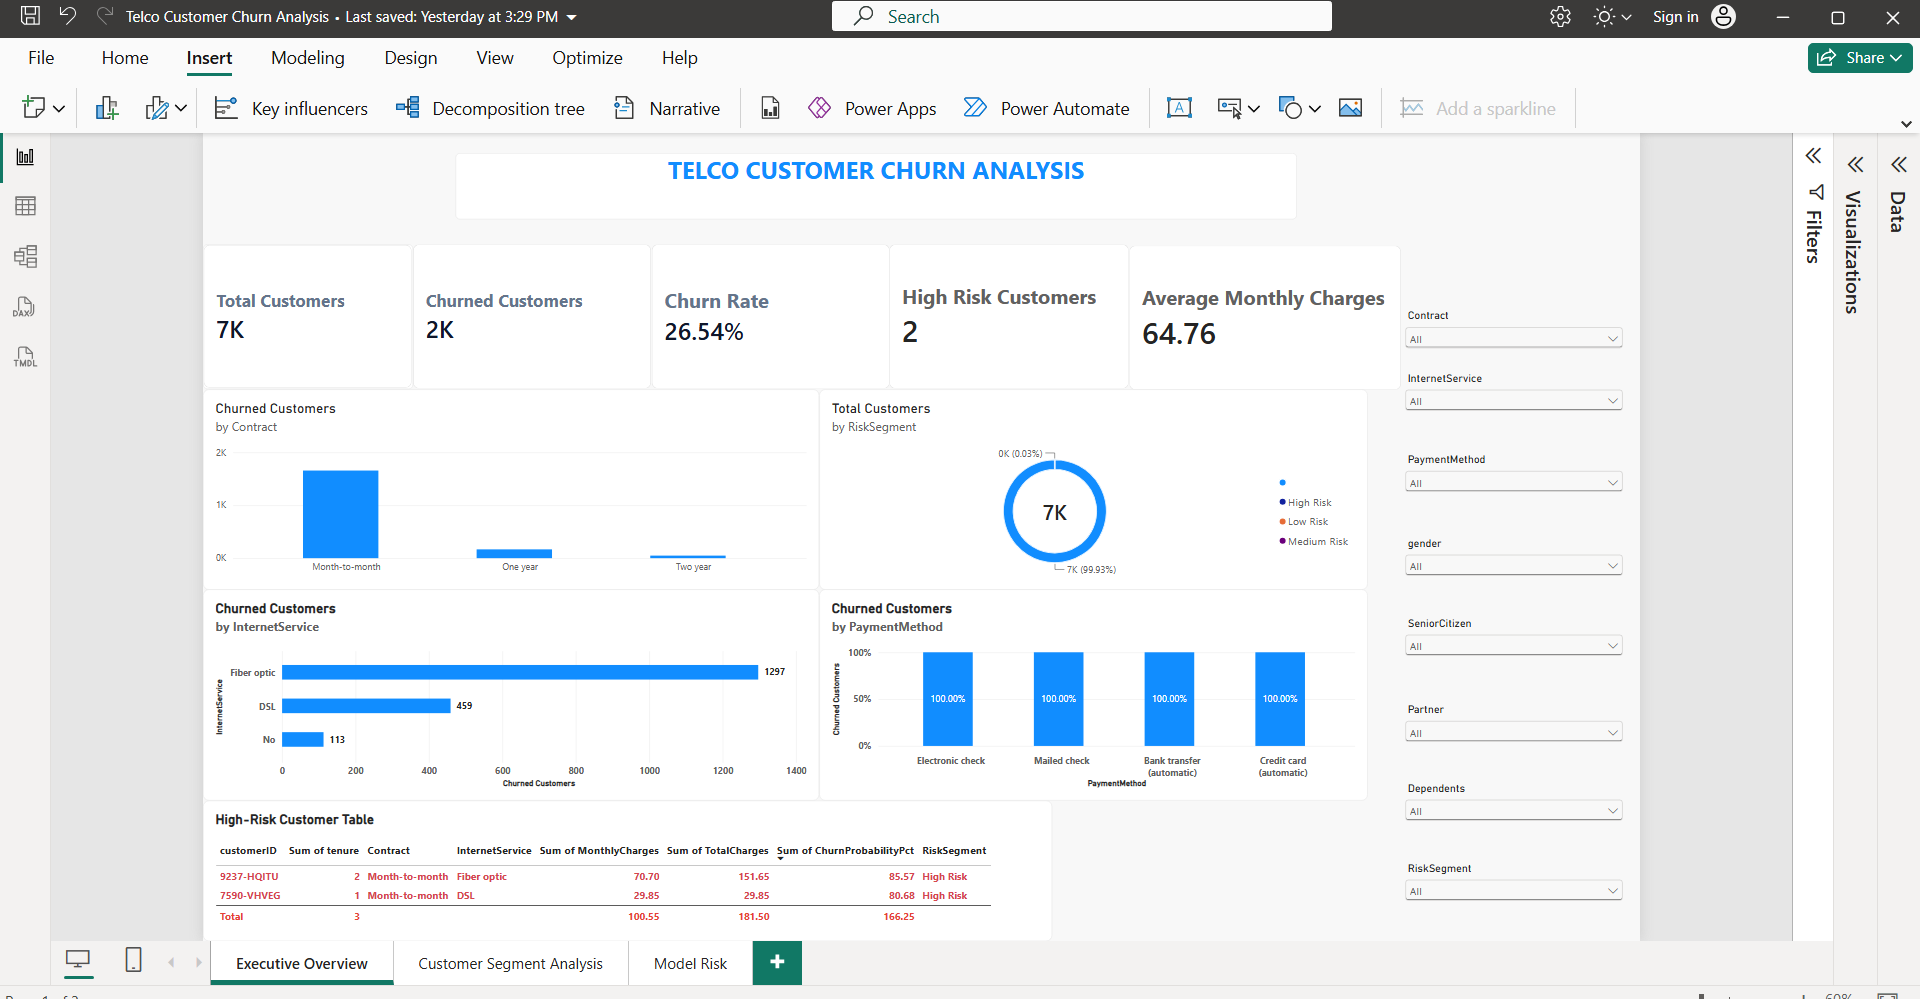

The page's visual inventory and layout, read from the dashboard file:
{"tool":"powerbi","page":{"name":"Executive Overview","canvas":[1920,1080],"ordinal":0},"visuals":[{"type":"cardVisual","fields":{"Data":["WA_Fn-UseC_-Telco-Customer-Churn.Total Customers"]},"box":[0,148.4,280.5,193.6],"z":0},{"type":"cardVisual","fields":{"Data":["WA_Fn-UseC_-Telco-Customer-Churn.Churned Customers"]},"box":[280.5,148.4,318.5,193.6],"z":1000},{"type":"cardVisual","fields":{"Data":["WA_Fn-UseC_-Telco-Customer-Churn.High Risk Customers"]},"box":[917.5,148.4,320.3,193.6],"z":2000},{"type":"cardVisual","fields":{"Data":["WA_Fn-UseC_-Telco-Customer-Churn.Churn Rate"]},"box":[599,148.4,318.5,193.6],"z":3000},{"type":"cardVisual","fields":{"Data":["WA_Fn-UseC_-Telco-Customer-Churn.Average Monthly Charges ="]},"box":[1237.8,150.2,363.7,193.6],"z":4000},{"type":"clusteredColumnChart","fields":{"Category":["WA_Fn-UseC_-Telco-Customer-Churn.Contract"],"Y":["WA_Fn-UseC_-Telco-Customer-Churn.Churned Customers"]},"box":[0,342,823.4,267.8],"z":5000},{"type":"barChart","fields":{"Category":["WA_Fn-UseC_-Telco-Customer-Churn.InternetService"],"Y":["WA_Fn-UseC_-Telco-Customer-Churn.Churned Customers"]},"box":[0,609.9,823.4,282.3],"z":6000},{"type":"hundredPercentStackedColumnChart","fields":{"Category":["WA_Fn-UseC_-Telco-Customer-Churn.PaymentMethod"],"Y":["WA_Fn-UseC_-Telco-Customer-Churn.Churned Customers"]},"box":[823.4,609.9,732.9,282.3],"z":7000},{"type":"donutChart","fields":{"Category":["WA_Fn-UseC_-Telco-Customer-Churn.RiskSegment"],"Y":["WA_Fn-UseC_-Telco-Customer-Churn.Total Customers"]},"box":[823.4,342,732.9,267.8],"z":8000},{"type":"tableEx","title":"High-Risk Customer Table","fields":{"Values":["WA_Fn-UseC_-Telco-Customer-Churn.customerID","Sum(WA_Fn-UseC_-Telco-Customer-Churn.tenure)","WA_Fn-UseC_-Telco-Customer-Churn.Contract","WA_Fn-UseC_-Telco-Customer-Churn.InternetService","Sum(WA_Fn-UseC_-Telco-Customer-Churn.MonthlyCharges)","Sum(WA_Fn-UseC_-Telco-Customer-Churn.TotalCharges)","Sum(WA_Fn-UseC_-Telco-Customer-Churn.ChurnProbabilityPct)","WA_Fn-UseC_-Telco-Customer-Churn.RiskSegment"]},"box":[0,892.2,1134.7,188.2],"z":9000},{"type":"slicer","fields":{"Values":["WA_Fn-UseC_-Telco-Customer-Churn.Contract"]},"box":[1601.5,235.3,300.4,83.2],"z":10000},{"type":"slicer","fields":{"Values":["WA_Fn-UseC_-Telco-Customer-Churn.InternetService"]},"box":[1601.5,318.5,300.4,79.6],"z":11000},{"type":"slicer","fields":{"Values":["WA_Fn-UseC_-Telco-Customer-Churn.PaymentMethod"]},"box":[1601.5,427.1,300.4,76],"z":12000},{"type":"slicer","fields":{"Values":["WA_Fn-UseC_-Telco-Customer-Churn.gender"]},"box":[1601.5,539.3,300.4,70.6],"z":13000},{"type":"slicer","fields":{"Values":["WA_Fn-UseC_-Telco-Customer-Churn.SeniorCitizen"]},"box":[1601.5,646,300.4,67],"z":14000},{"type":"slicer","fields":{"Values":["WA_Fn-UseC_-Telco-Customer-Churn.Partner"]},"box":[1601.5,761.9,300.4,77.8],"z":15000},{"type":"slicer","fields":{"Values":["WA_Fn-UseC_-Telco-Customer-Churn.Dependents"]},"box":[1601.5,866.8,300.4,77.8],"z":16000},{"type":"slicer","fields":{"Values":["WA_Fn-UseC_-Telco-Customer-Churn.RiskSegment"]},"box":[1601.5,973.6,300.4,83.2],"z":17000},{"type":"textbox","box":[336.6,27.1,1123.8,88.7],"z":18000}]}

Visuals, with their boxes on the page's 1920x1080 design canvas (x1, y1, x2, y2). These are canvas units, not pixel positions in the 1920x999 screenshot, which may show the page scaled, cropped or inside an application window:
cardVisual - WA_Fn-UseC_-Telco-Customer-Churn.Total Customers: (0,148,280,342)
cardVisual - WA_Fn-UseC_-Telco-Customer-Churn.Churned Customers: (280,148,599,342)
cardVisual - WA_Fn-UseC_-Telco-Customer-Churn.High Risk Customers: (918,148,1238,342)
cardVisual - WA_Fn-UseC_-Telco-Customer-Churn.Churn Rate: (599,148,918,342)
cardVisual - WA_Fn-UseC_-Telco-Customer-Churn.Average Monthly Charges =: (1238,150,1602,344)
clusteredColumnChart - WA_Fn-UseC_-Telco-Customer-Churn.Contract x WA_Fn-UseC_-Telco-Customer-Churn.Churned Customers: (0,342,823,610)
barChart - WA_Fn-UseC_-Telco-Customer-Churn.InternetService x WA_Fn-UseC_-Telco-Customer-Churn.Churned Customers: (0,610,823,892)
hundredPercentStackedColumnChart - WA_Fn-UseC_-Telco-Customer-Churn.PaymentMethod x WA_Fn-UseC_-Telco-Customer-Churn.Churned Customers: (823,610,1556,892)
donutChart - WA_Fn-UseC_-Telco-Customer-Churn.RiskSegment x WA_Fn-UseC_-Telco-Customer-Churn.Total Customers: (823,342,1556,610)
"High-Risk Customer Table" tableEx: (0,892,1135,1080)
slicer - WA_Fn-UseC_-Telco-Customer-Churn.Contract: (1602,235,1902,318)
slicer - WA_Fn-UseC_-Telco-Customer-Churn.InternetService: (1602,318,1902,398)
slicer - WA_Fn-UseC_-Telco-Customer-Churn.PaymentMethod: (1602,427,1902,503)
slicer - WA_Fn-UseC_-Telco-Customer-Churn.gender: (1602,539,1902,610)
slicer - WA_Fn-UseC_-Telco-Customer-Churn.SeniorCitizen: (1602,646,1902,713)
slicer - WA_Fn-UseC_-Telco-Customer-Churn.Partner: (1602,762,1902,840)
slicer - WA_Fn-UseC_-Telco-Customer-Churn.Dependents: (1602,867,1902,945)
slicer - WA_Fn-UseC_-Telco-Customer-Churn.RiskSegment: (1602,974,1902,1057)
textbox: (337,27,1460,116)
